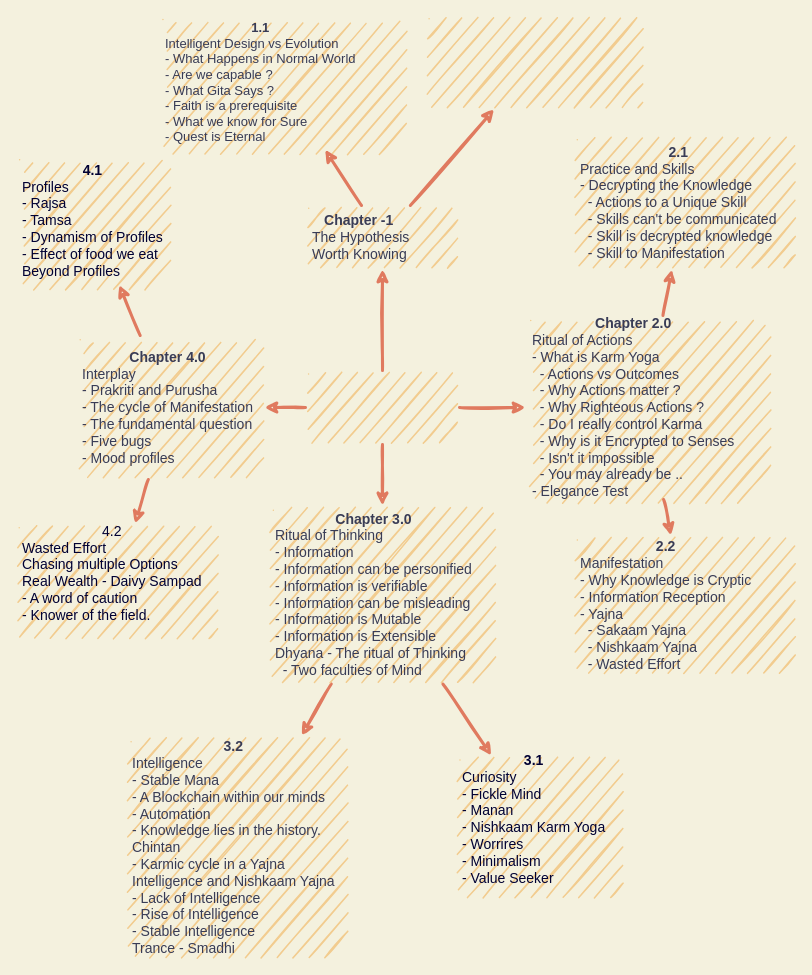
Image size: 812x975. Some labels were removed from this diagram. Each missing label, with the centre of its shape:
"1.2 Why Gita - Is it real ? - The Sharp Logic - Gita's take on HARD problem" goes at [534,62].
"Section 1 Getting Started" goes at [382,407].
